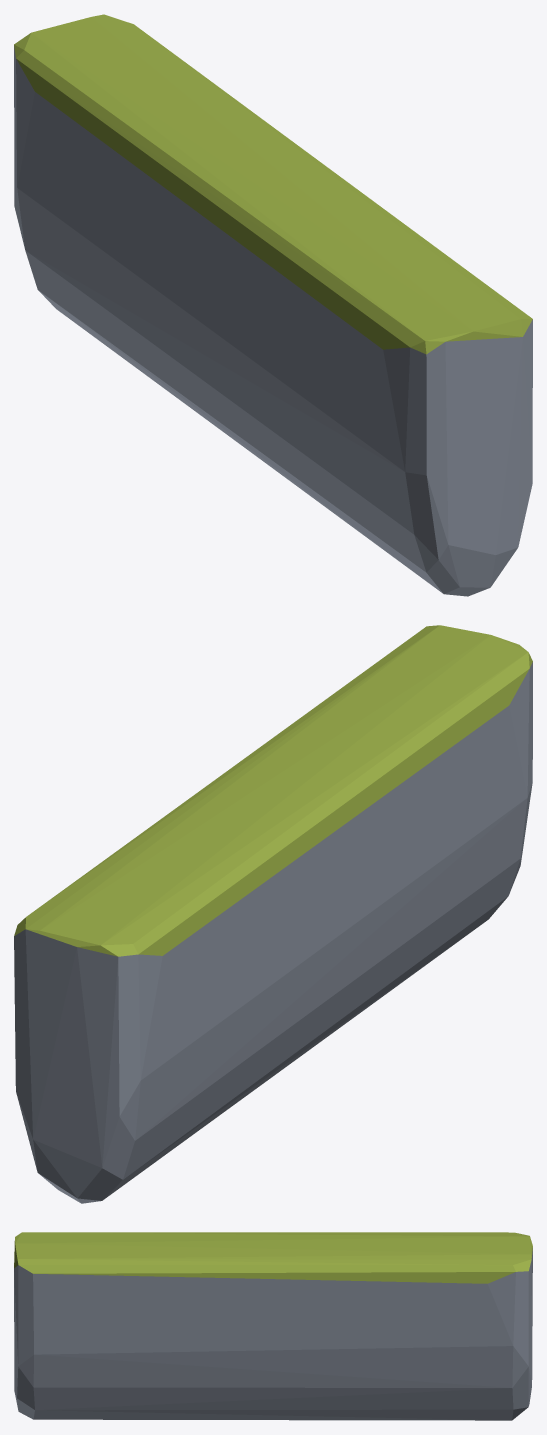
File: Horizontal Platform 2.fbx
3 renders of one model, top to bottom at view 1: azimuth 30°, elevation 25°; view 2: azimuth 150°, elevation 25°; view 3: azimuth 270°, elevation 25°, orthographic. The views are drawn at different scales.
Parts seen in each view (by area): view 1: Cube.007; view 2: Cube.007; view 3: Cube.007.
Boxes of the visible parts, box(x1,y1,x2,y2) form: Cube.007: box(14, 14, 532, 596); Cube.007: box(14, 625, 532, 1203); Cube.007: box(14, 1232, 532, 1420).
Size of the model in its own units: 366 by 768 by 2092.
